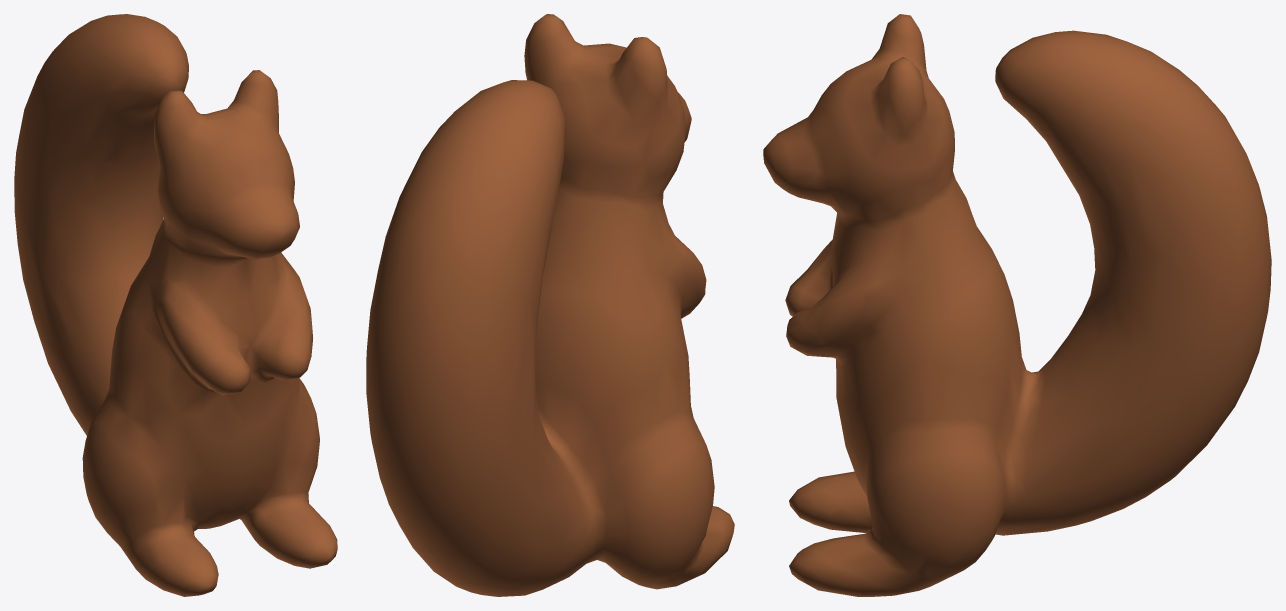
File: NEW_RECOVERY_007_LOD1.glb
The picture shows the model from 3 angles, left to right: view 1: azimuth 30°, elevation 25°; view 2: azimuth 150°, elevation 25°; view 3: azimuth 270°, elevation 25°; orthographic projection. The views are drawn at different scales.
Visible parts, largest first — view 1: NEW_RECOVERY_007_LOD1; view 2: NEW_RECOVERY_007_LOD1; view 3: NEW_RECOVERY_007_LOD1.
Part boxes in pixels (left/top/right/bottom): NEW_RECOVERY_007_LOD1: left=14, top=14, right=337, bottom=596; NEW_RECOVERY_007_LOD1: left=366, top=14, right=734, bottom=596; NEW_RECOVERY_007_LOD1: left=763, top=14, right=1271, bottom=596.
Size of the model in its own units: 0.1164 by 0.2461 by 0.2158.
